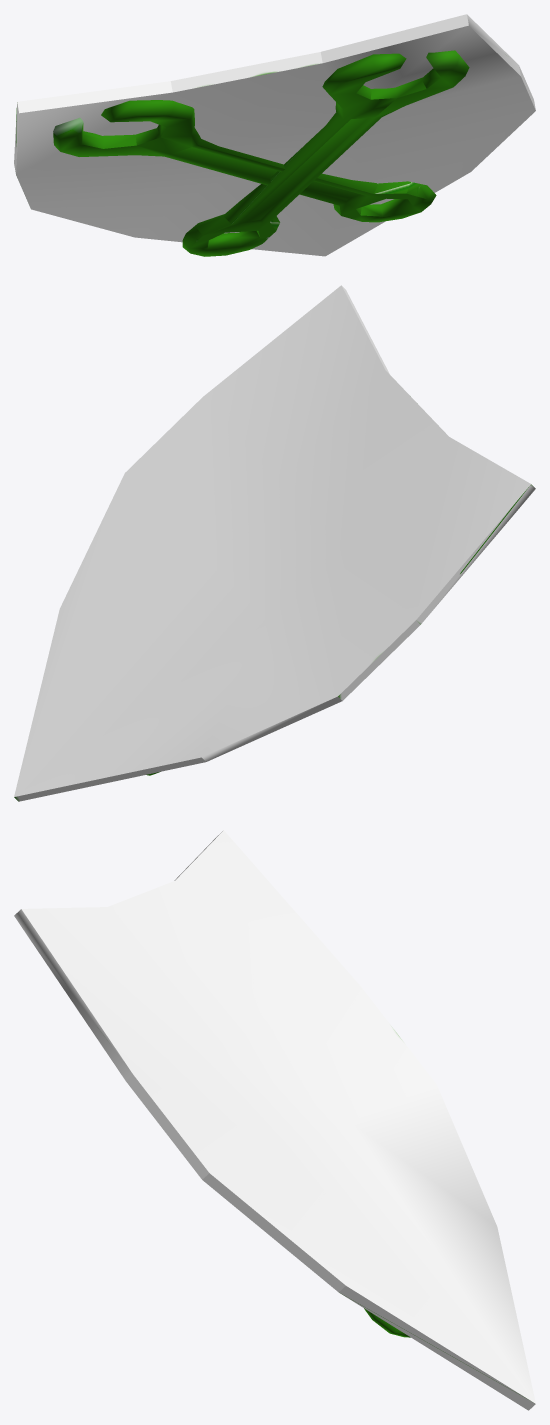
File: health_regen.fbx
3 views of the same model, one above another, from view 1: azimuth 30°, elevation 25°; view 2: azimuth 150°, elevation 25°; view 3: azimuth 270°, elevation 25° (orthographic). The views are drawn at different scales.
Parts seen in each view (by area): view 1: Box02_01_-_Defaultk; view 2: Box02_01_-_Defaultk; view 3: Box02_01_-_Defaultk.
Part boxes in pixels (x1,y1,x2,y2): Box02_01_-_Defaultk: (14, 14, 535, 256); Box02_01_-_Defaultk: (14, 285, 535, 801); Box02_01_-_Defaultk: (14, 830, 535, 1410).
Size of the model in its own units: 38.57 by 33.48 by 35.76.
1 material, 1 textured.
